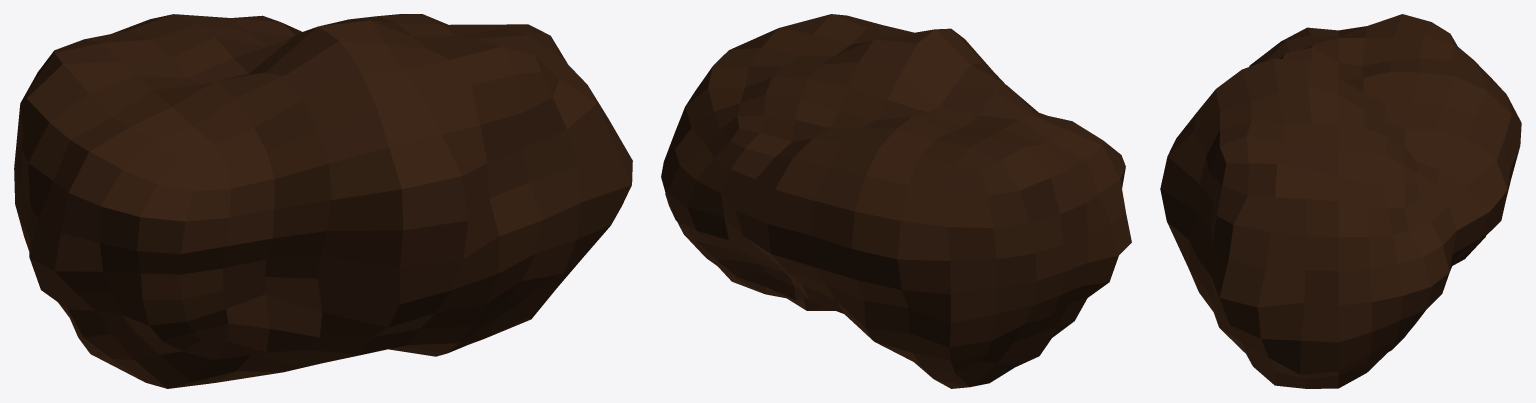
The model's file is Asteroid2.fbx.
3 renders of one model, left to right at view 1: azimuth 30°, elevation 25°; view 2: azimuth 150°, elevation 25°; view 3: azimuth 270°, elevation 25°, orthographic. The views are drawn at different scales.
Visible parts, largest first — view 1: Asteroid2; view 2: Asteroid2; view 3: Asteroid2.
Part boxes in pixels (x1,y1,x2,y2): Asteroid2: (14, 14, 632, 388); Asteroid2: (661, 14, 1131, 388); Asteroid2: (1160, 14, 1521, 388).
Size of the model in its own units: 2221 by 1371 by 1614.
